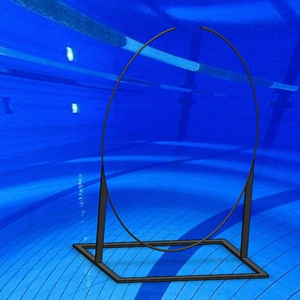circle: (72, 24, 272, 283)
